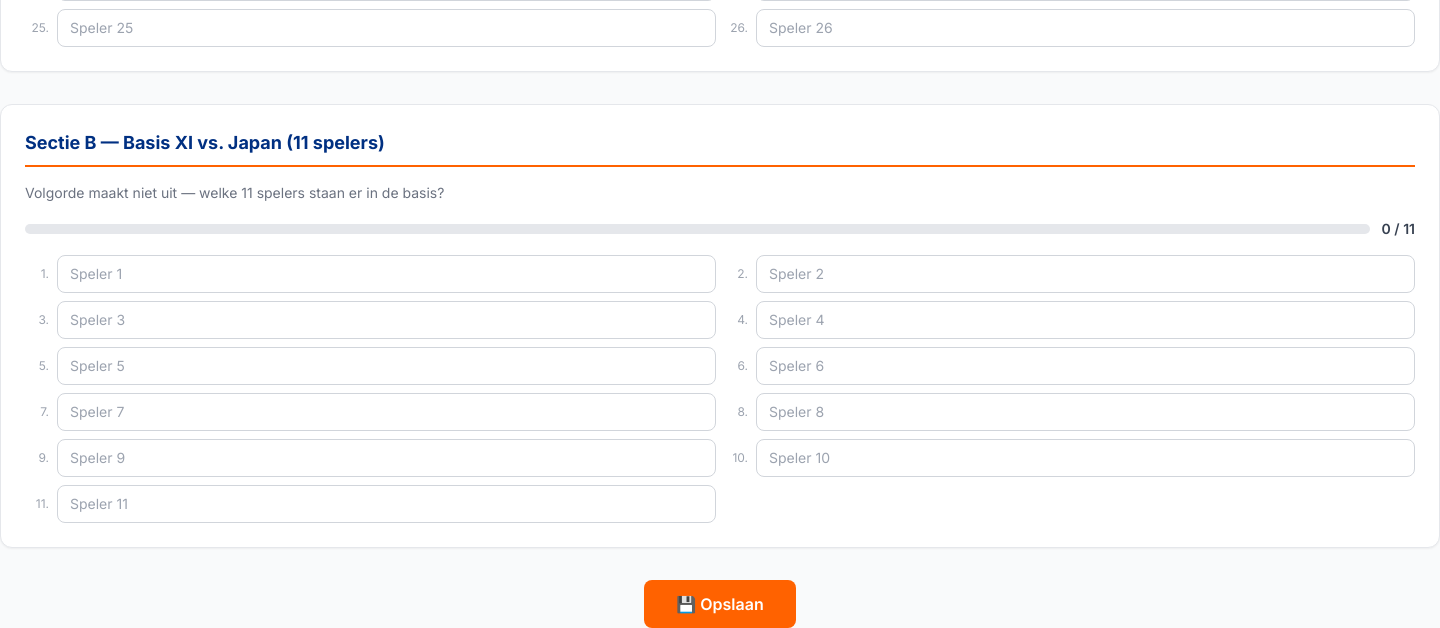
PredictieForm › shows error message when upsert fails
(page scrolled)
What coordinates should you click on to do the following:
click the button "💾 Opslaan"
I would click on:
 (720, 604)
Its box is [644,580,796,627].
(page scrolled)
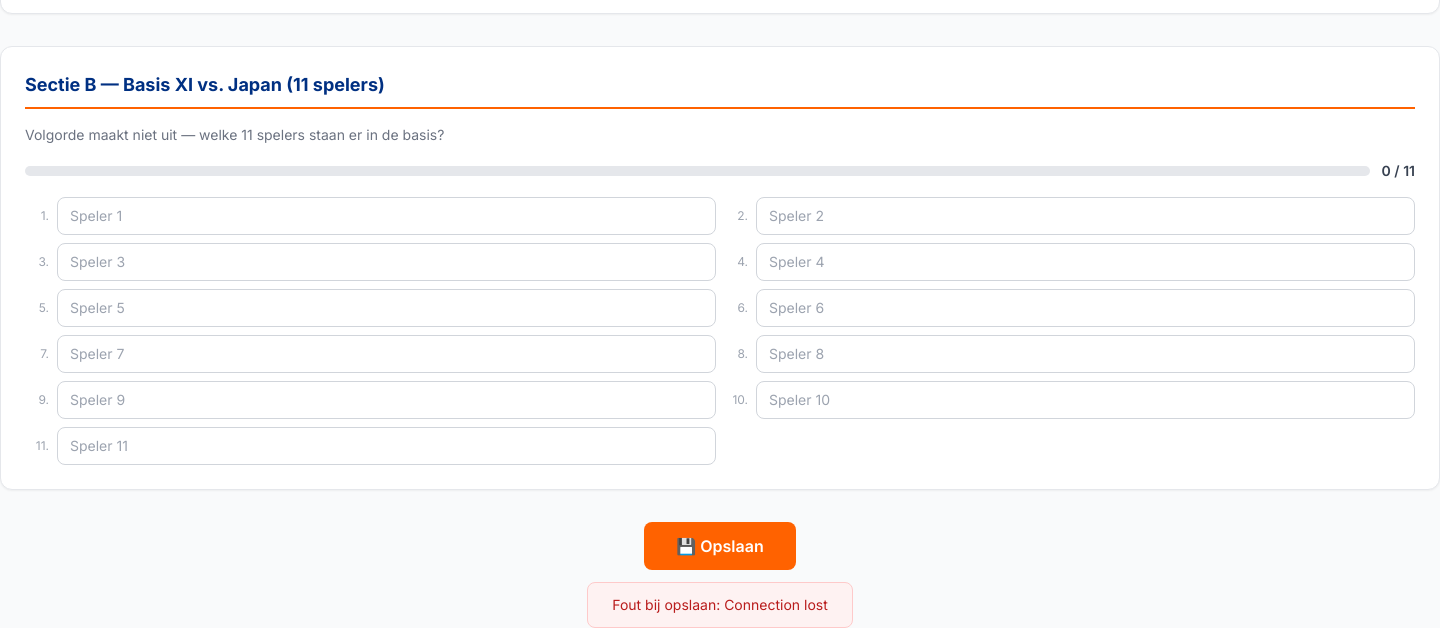
Result: the text "Fout bij opslaan: Connection lost" is shown at [587,582,853,627]
